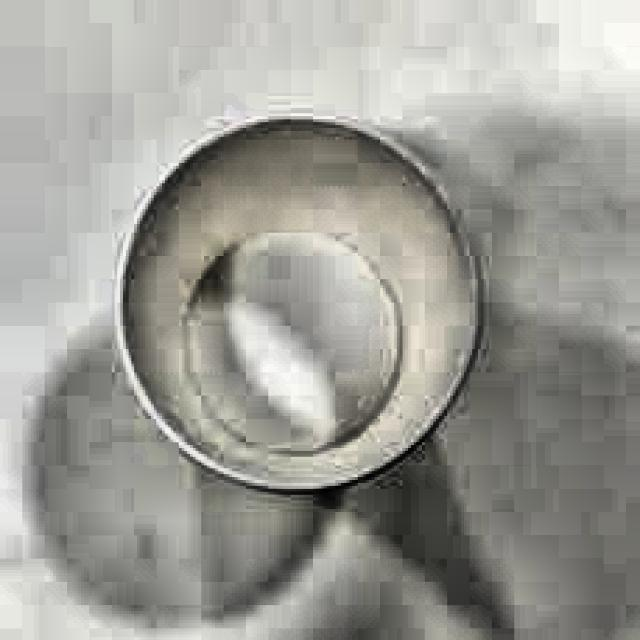Cup: (86, 104, 499, 495)
